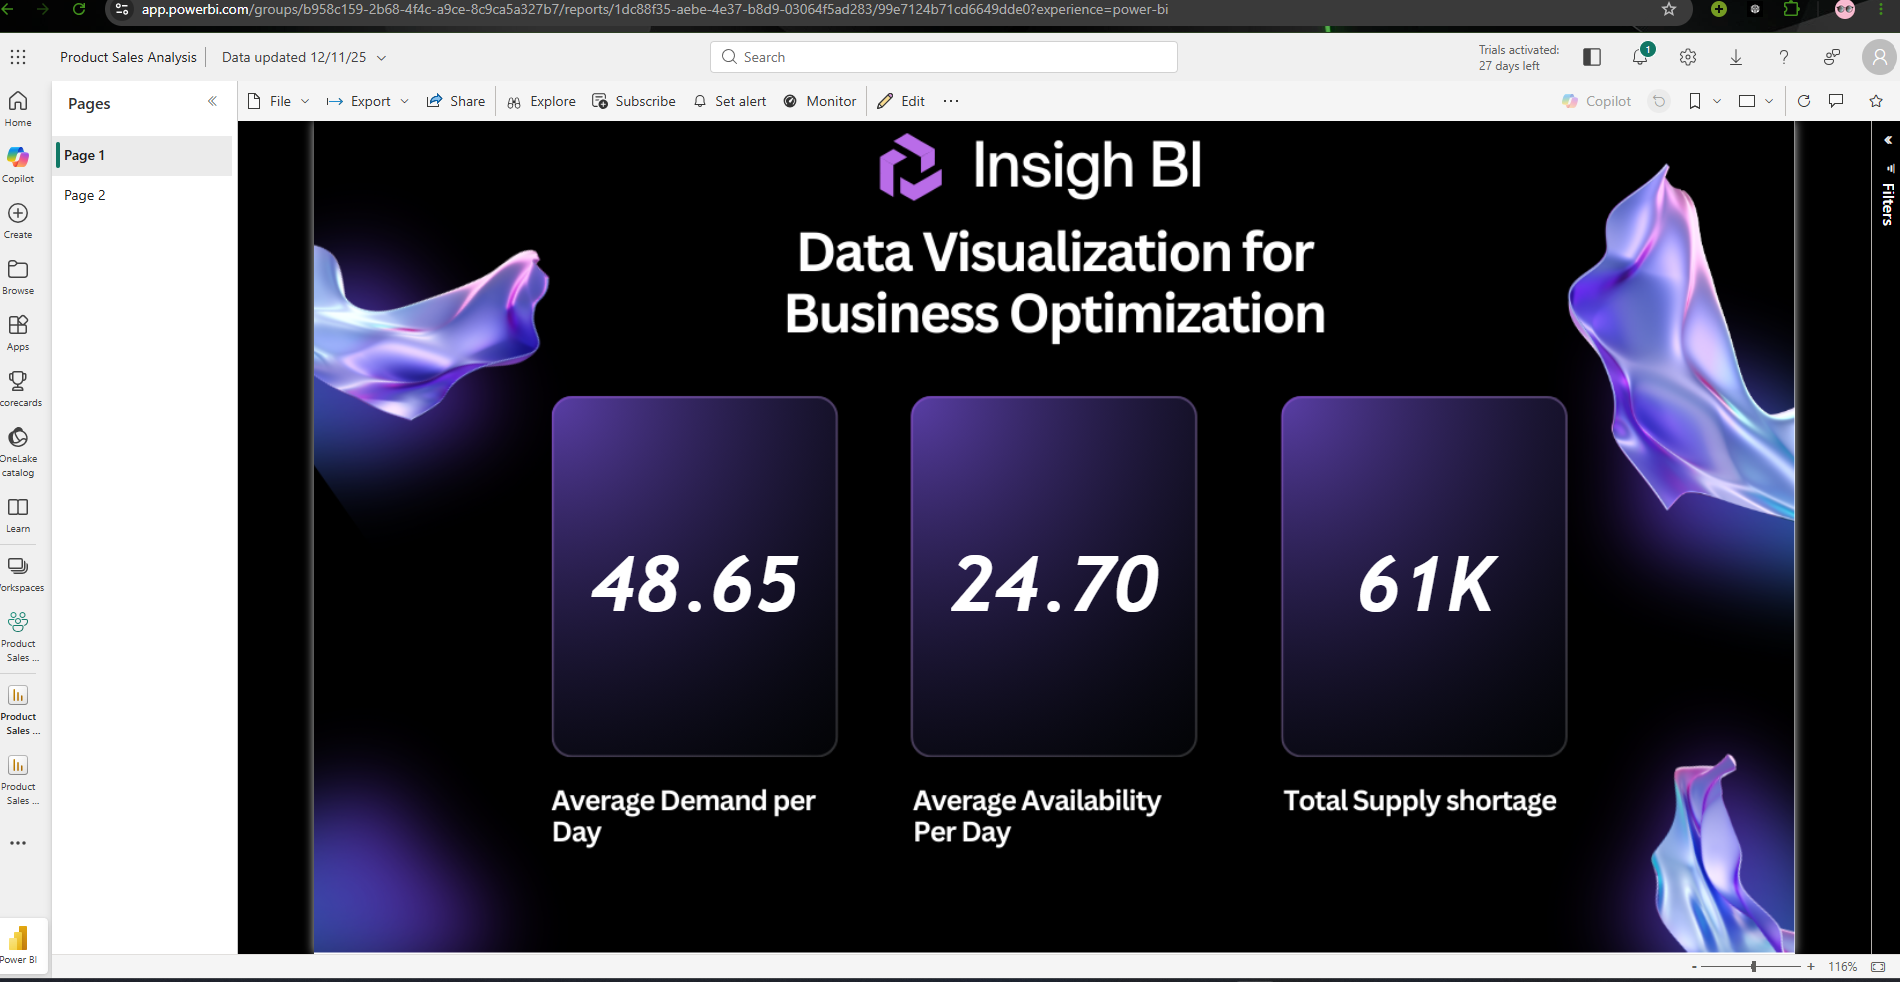

This screenshot's page, from the dashboard's own definition file:
{"tool":"powerbi","page":{"name":"Page 1","canvas":[1280,720],"ordinal":0},"visuals":[{"type":"card","fields":{"Values":["Measure Table 1.Average Demand Per Day"]},"box":[208.3,280.1,242.4,228.9],"z":0},{"type":"card","fields":{"Values":["Measure Table 1.Average Availability Per Day"]},"box":[518.9,280.1,242.4,228.9],"z":1},{"type":"card","fields":{"Values":["Measure Table 1.Total Supply Shortage"]},"box":[840.3,280.1,242.4,228.9],"z":2}]}

Visuals, with their boxes on the page's 1280x720 design canvas (x1, y1, x2, y2). These are canvas units, not pixel positions in the 1900x982 screenshot, which may show the page scaled, cropped or inside an application window:
card - Measure Table 1.Average Demand Per Day: detection(208, 280, 451, 509)
card - Measure Table 1.Average Availability Per Day: detection(519, 280, 761, 509)
card - Measure Table 1.Total Supply Shortage: detection(840, 280, 1083, 509)
